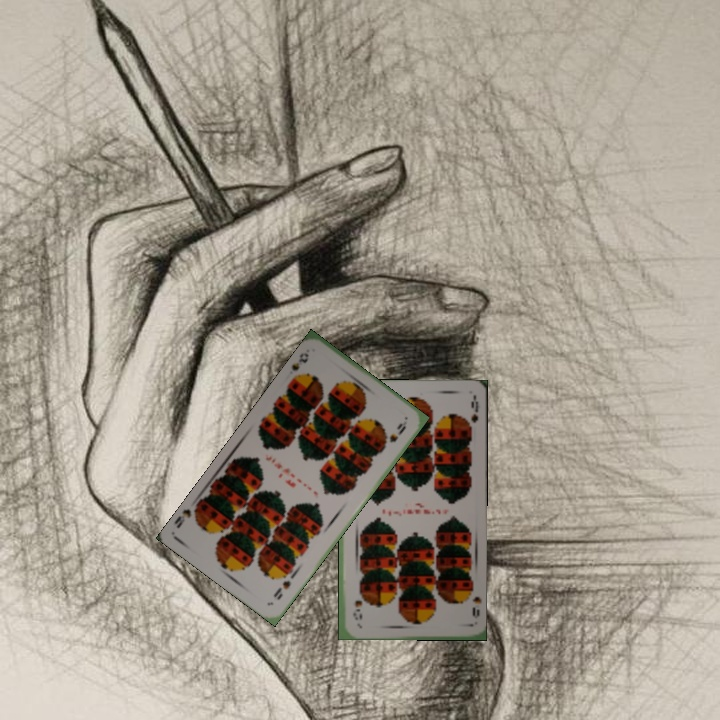S9: (269, 568, 297, 602), (287, 348, 311, 384), (462, 583, 482, 620)
